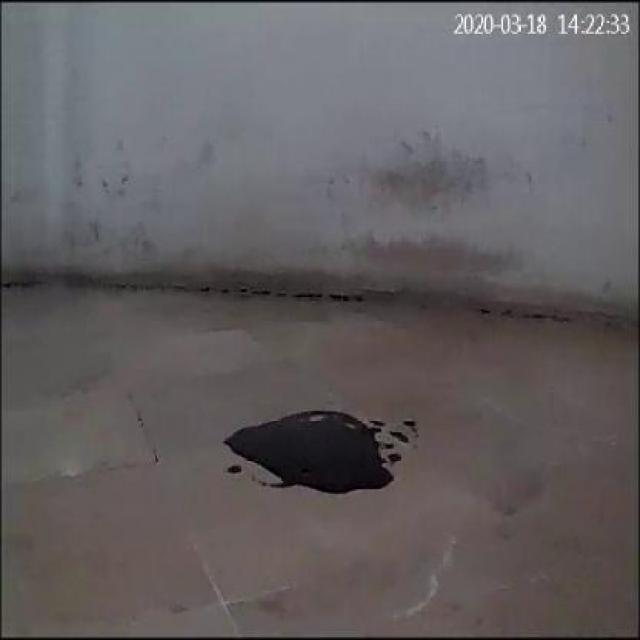spill: (224, 408, 418, 496)
